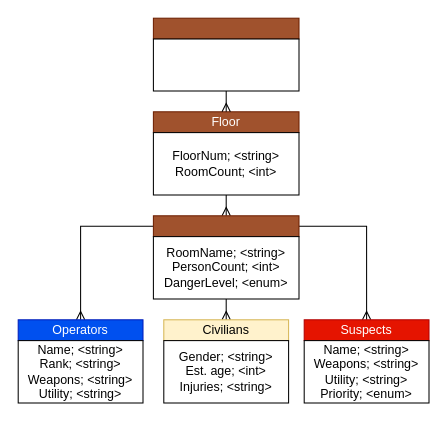
Image size: 447x421. Some labels were removed from this diagram. The shapes that lost their labels are listed below. From the top down, each one's centre as x and y in pixels, then its label:
At (225,28): "Building".
At (225,64): "Name; <char> FloorCount; <int>".
At (225,226): "Room".
